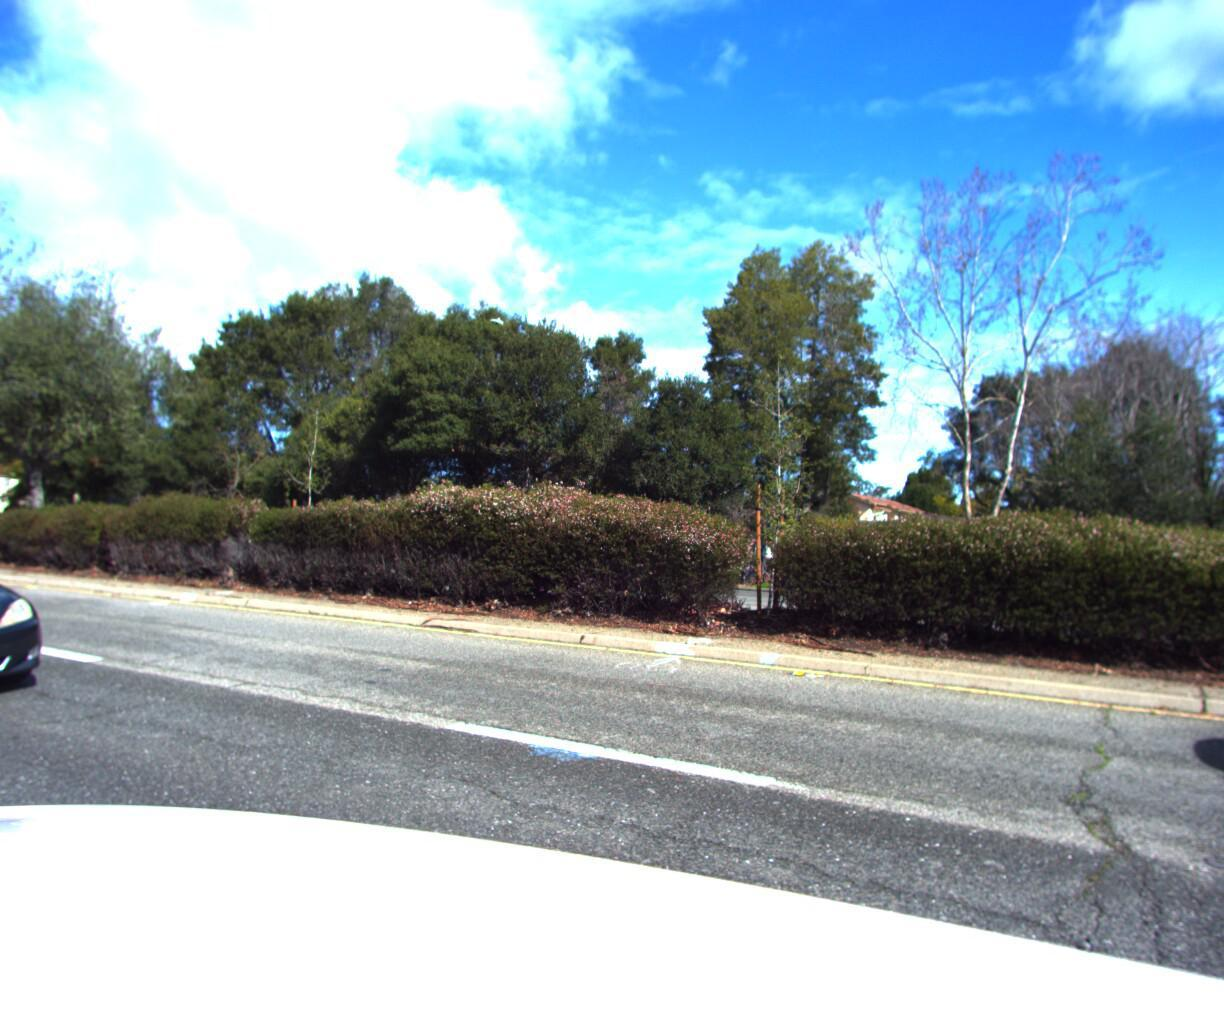car: (0, 505, 84, 740)
